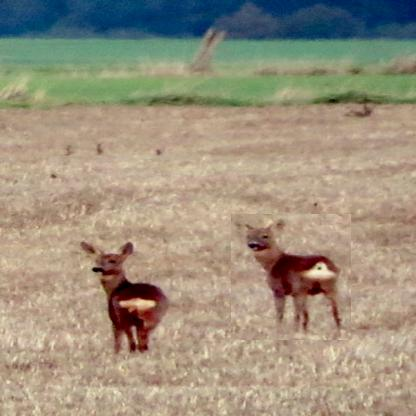Deer: (232, 214, 352, 340), (79, 242, 171, 358)
